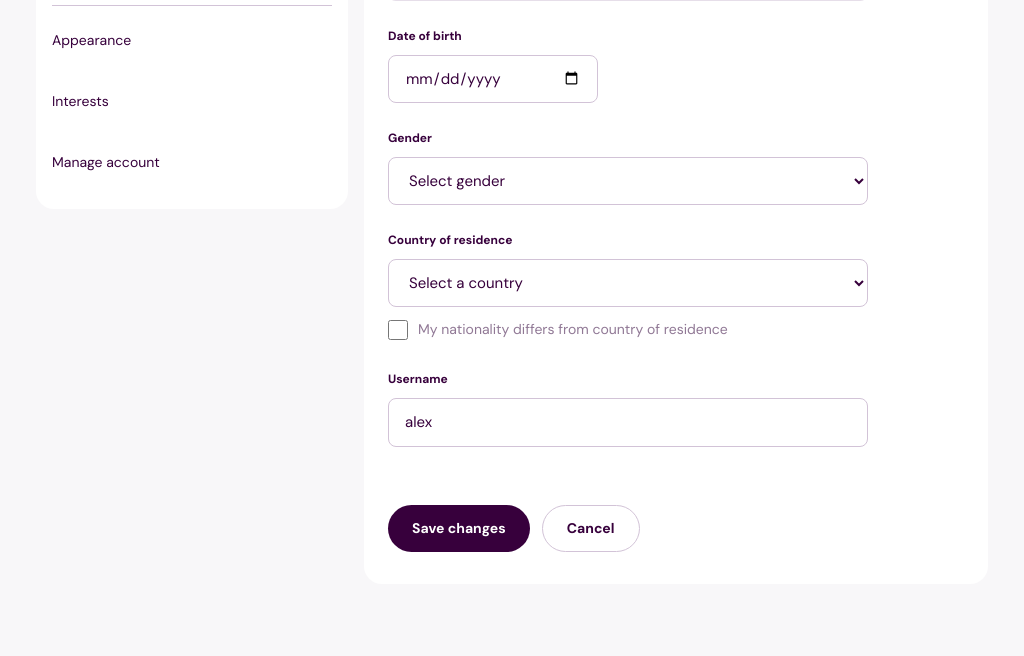
Test case: App › edits and saves personal account details
(page scrolled)
Replace the text in the field labelled "Username" with "captain" at (628, 422), box [388,398,868,447]
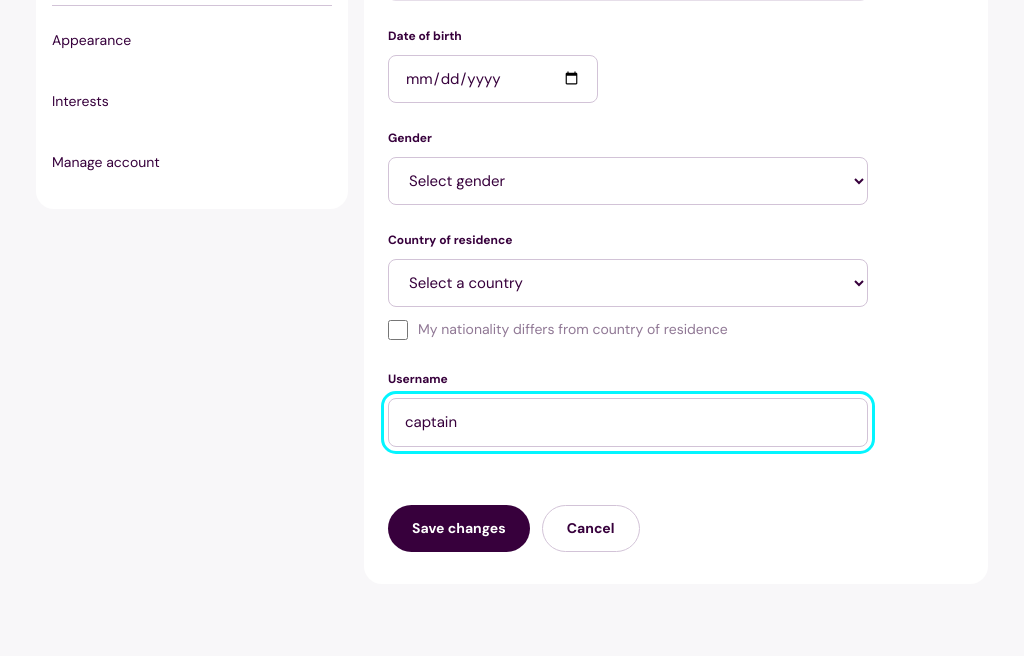
Select "GB" in the dropdown labelled "Country of residence" at (628, 283), box [388,259,868,307]
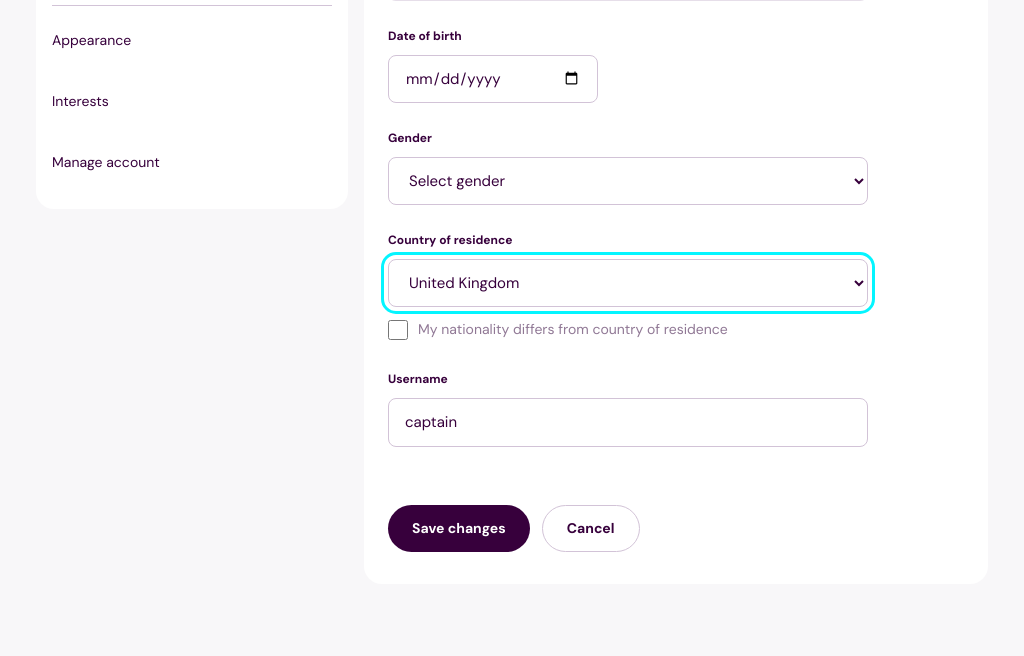
Click the button "Save changes".
click(459, 528)  # box [388,505,530,552]
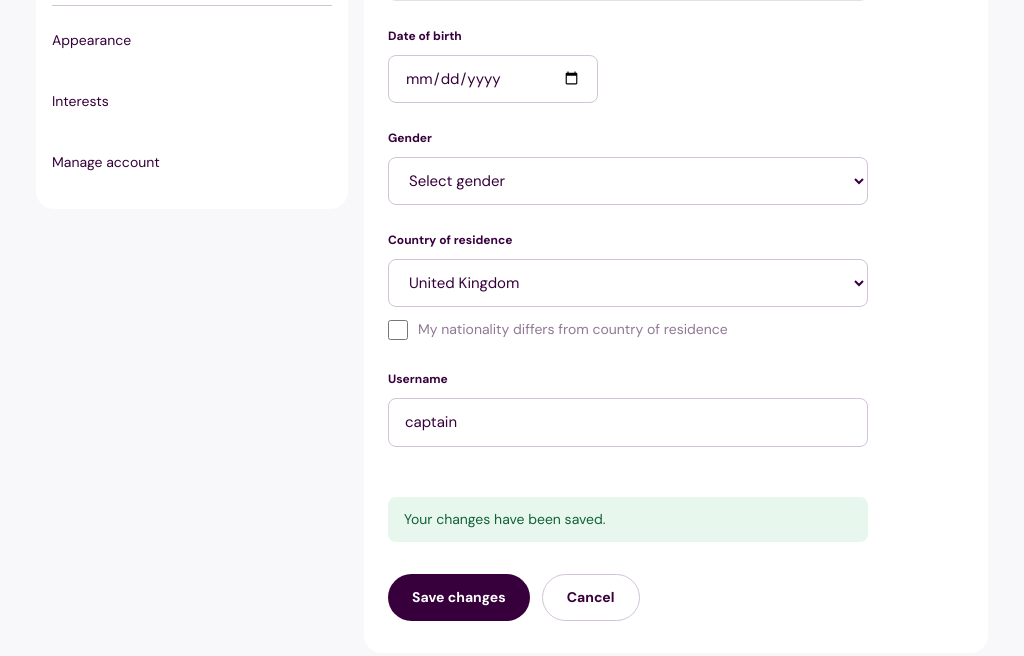
Check: the message reads "Your changes have been saved.", box [404,510,606,528]
